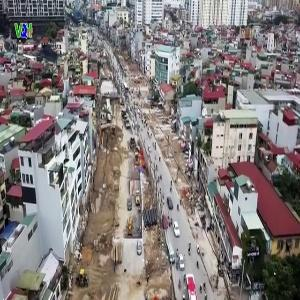drone: (16, 25, 72, 81)
